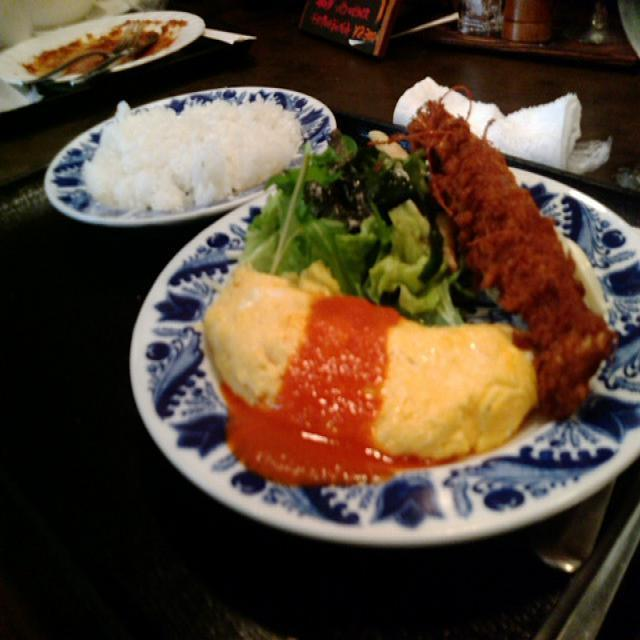omelet: (141, 274, 537, 464)
